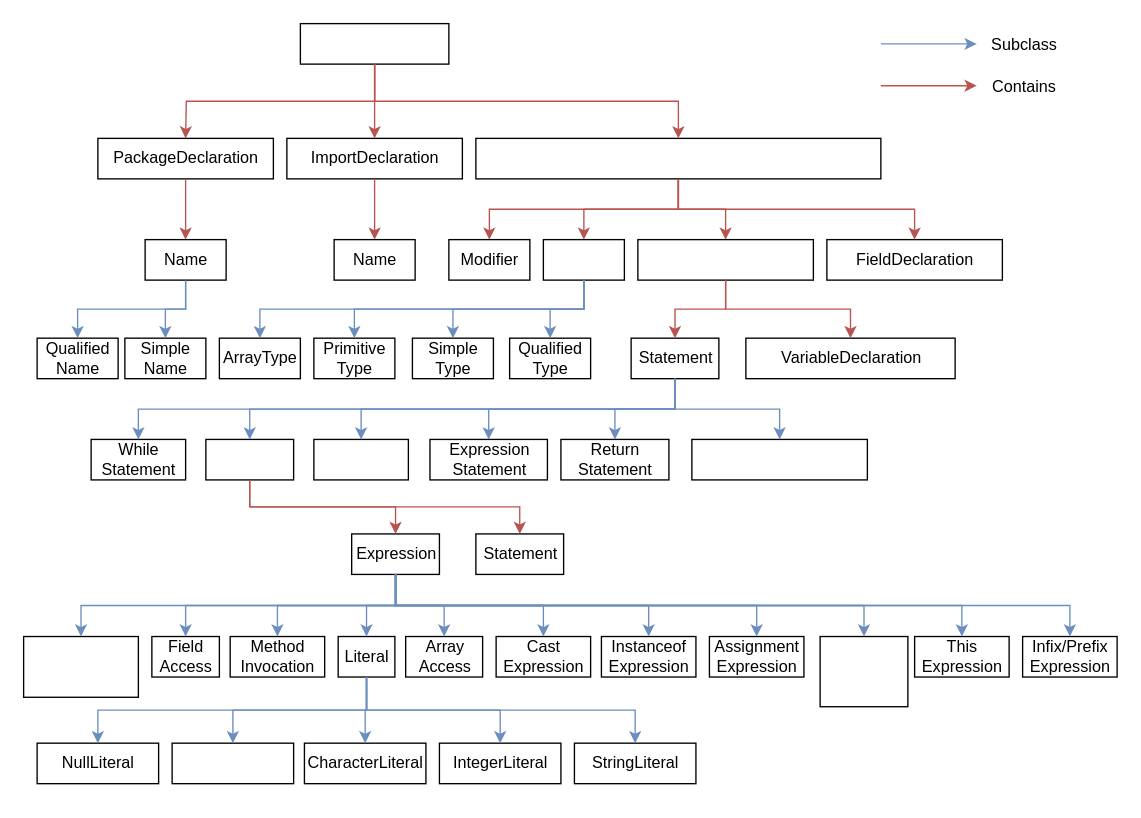
This 1141x818 diagram has some shape labels left out. Here are the shapes that lost their labels. From the top down, the centre of each, then its label:
(374,43): CompilationUnit
(678,158): TypeDeclaration
(583,259): Type
(725,259): MethodDeclaration
(249,459): For Statement
(360,459): If Statement
(779,459): VariableDeclaration Statement
(80,666): ClassInstance Creation Expression
(863,671): Array Creation Expression
(232,763): BooleanLiteral
